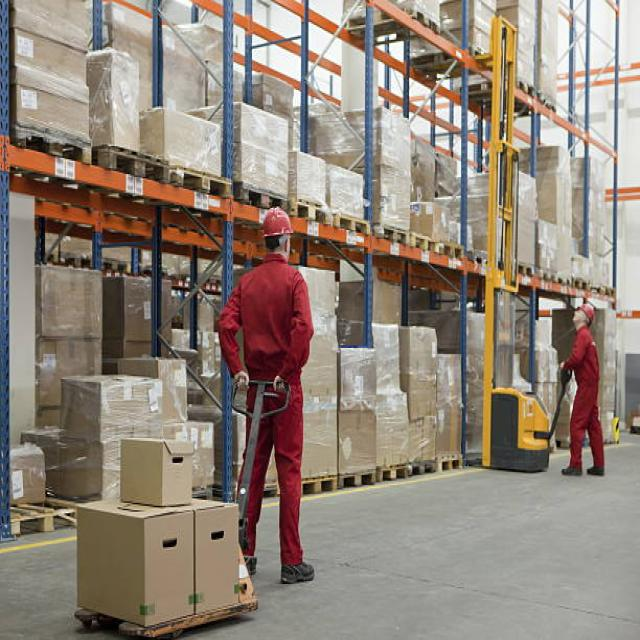Wooden-Pallets: (166, 159, 233, 205), (102, 140, 165, 186), (235, 173, 290, 224), (290, 195, 340, 236), (374, 215, 413, 255), (335, 465, 378, 494), (433, 450, 466, 485), (376, 459, 411, 491)
